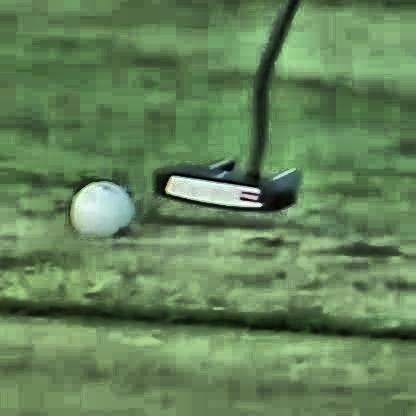golfball: (67, 181, 130, 238)
